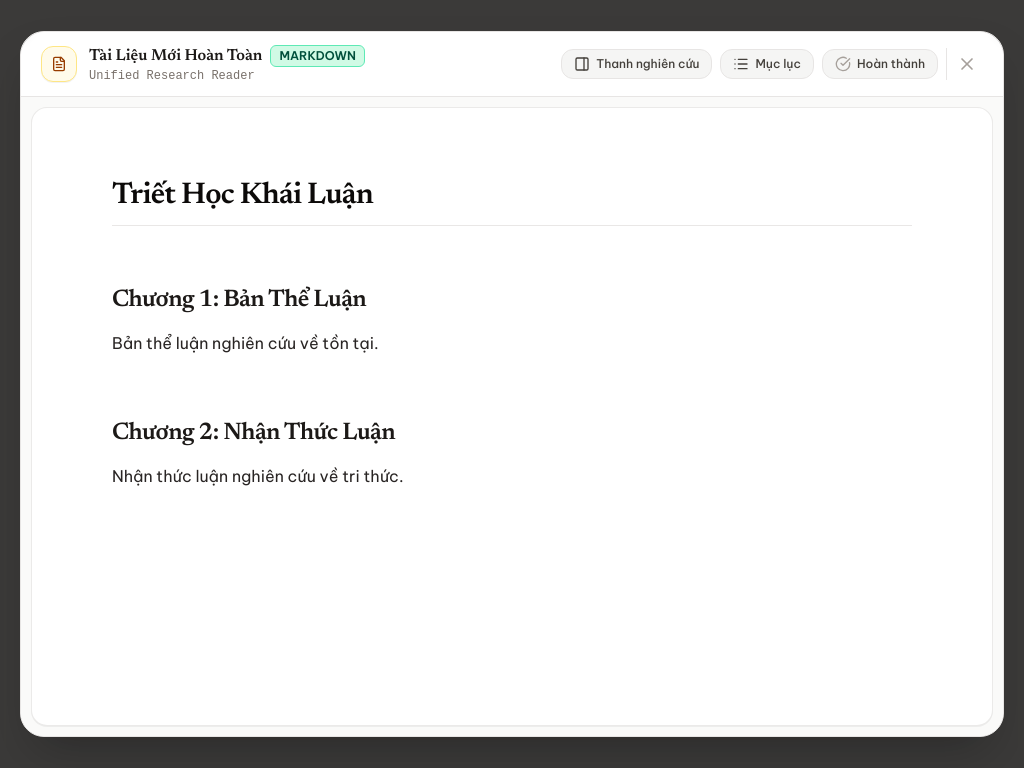
Phase R3B: Reader Sidebar In-Reader Note Citation Jump › 3. Phase 21A: Citation Backlinks Explorer in ReaderSidebar Notes Tab › 3.2. displays explanatory empty state when no notes cite the active document
Click the button with test id "reader-toggle-sidebar-btn" at (637, 64), box [561,49,712,79]
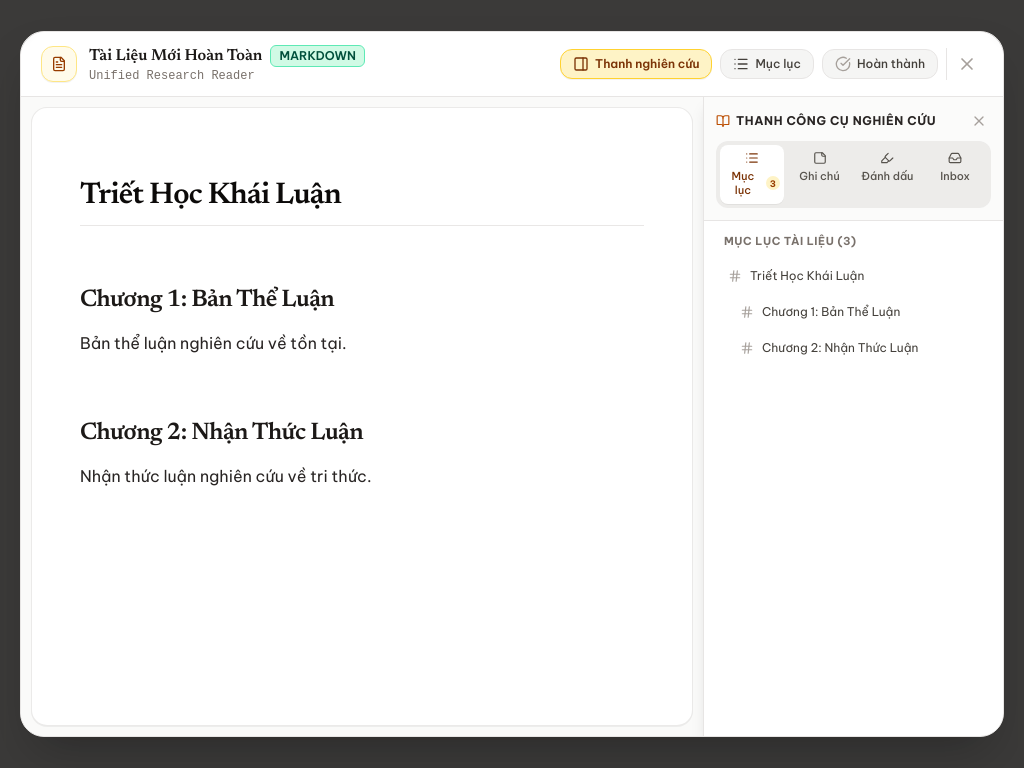
Click the tab with test id "sidebar-tab-notes" at (820, 174), box [788,145,852,204]
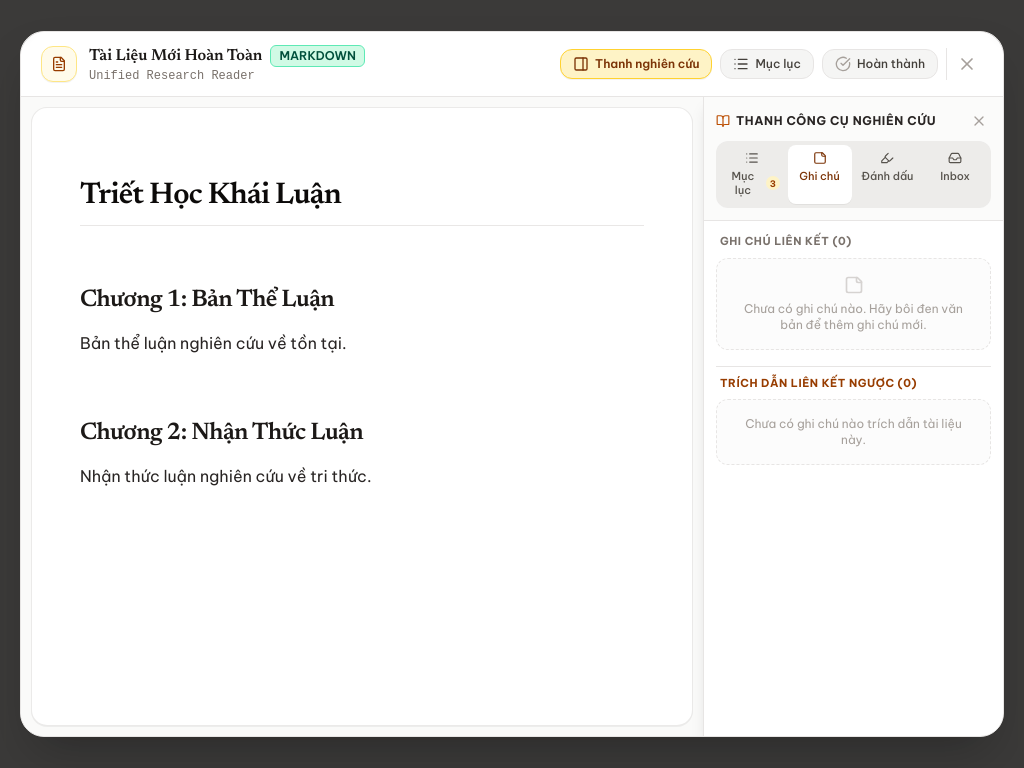
Expected: the element with test id "sidebar-backlinks-section" is shown, [716,366,991,465]
Expected: the text "Chưa có ghi chú nào trích dẫn tài liệu này." is shown, [733,416,974,448]
